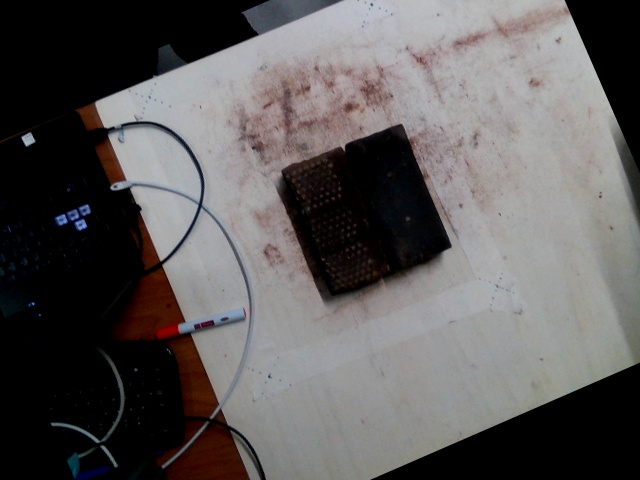brick: (348, 122, 452, 271)
brick-side: (284, 145, 392, 300)
